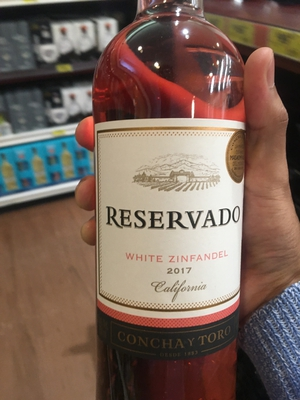reservado white zinfandel: (89, 8, 245, 399)
